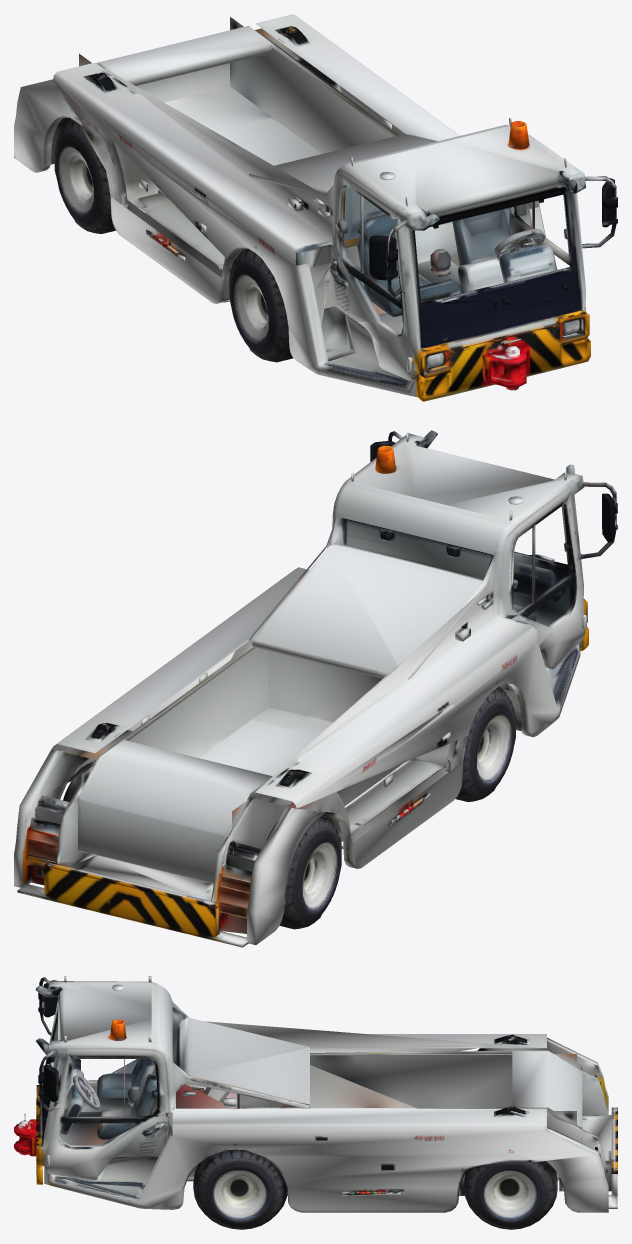
The picture shows the model from 3 angles, top to bottom: view 1: azimuth 30°, elevation 25°; view 2: azimuth 150°, elevation 25°; view 3: azimuth 270°, elevation 25°; orthographic projection. The views are drawn at different scales.
Visible parts, largest first — view 1: texture_pbr_20250901; view 2: texture_pbr_20250901; view 3: texture_pbr_20250901.
Part boxes in pixels (left/top/right/bottom): texture_pbr_20250901: left=14, top=14, right=617, bottom=401; texture_pbr_20250901: left=14, top=430, right=617, bottom=947; texture_pbr_20250901: left=14, top=976, right=617, bottom=1229.
Bounding box in the file's own units: 0.6949 × 0.6678 × 1.9.
Materials: 1 (1 with a texture image).
